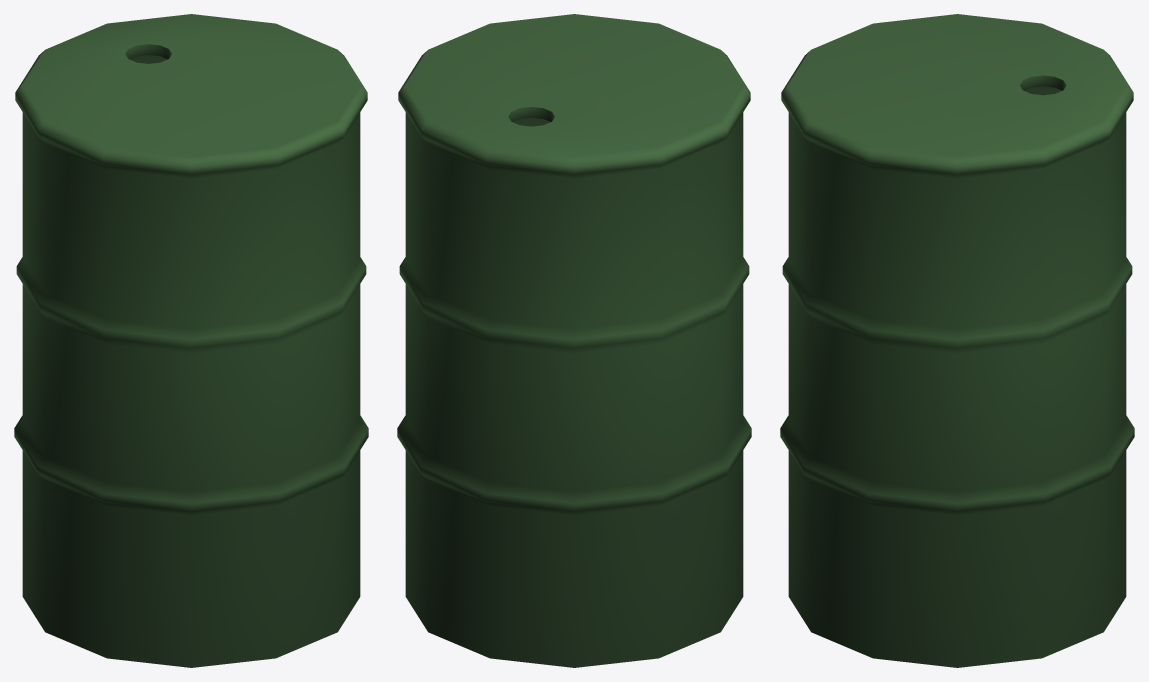
The model's file is human-containers-oil-drum_v1.glb.
3 views of the same model, side by side, from view 1: azimuth 30°, elevation 25°; view 2: azimuth 150°, elevation 25°; view 3: azimuth 270°, elevation 25° (orthographic).
Visible parts, largest first — view 1: Oil Drum; view 2: Oil Drum; view 3: Oil Drum.
Part boxes in pixels (box(x1,y1,x2,y2)): Oil Drum: box(14, 14, 368, 667); Oil Drum: box(397, 14, 751, 667); Oil Drum: box(780, 14, 1134, 667).
Size of the model in its own units: 0.5657 by 0.9 by 0.5657.
